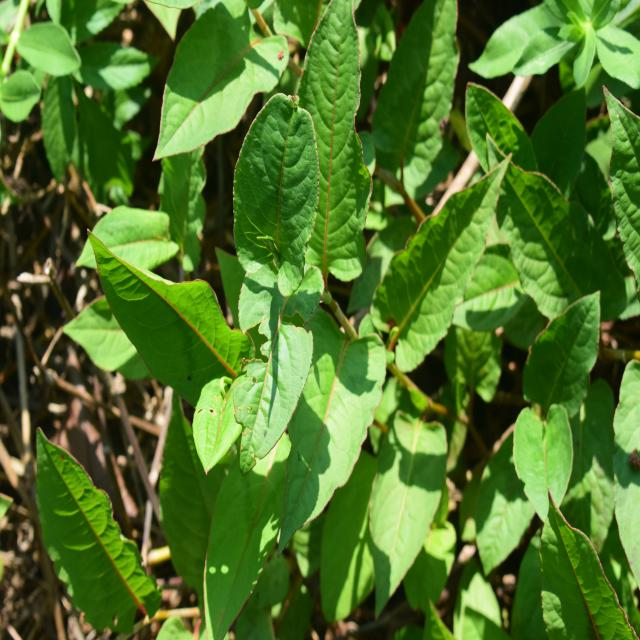Chinese_knotweed: (226, 32, 424, 463)
